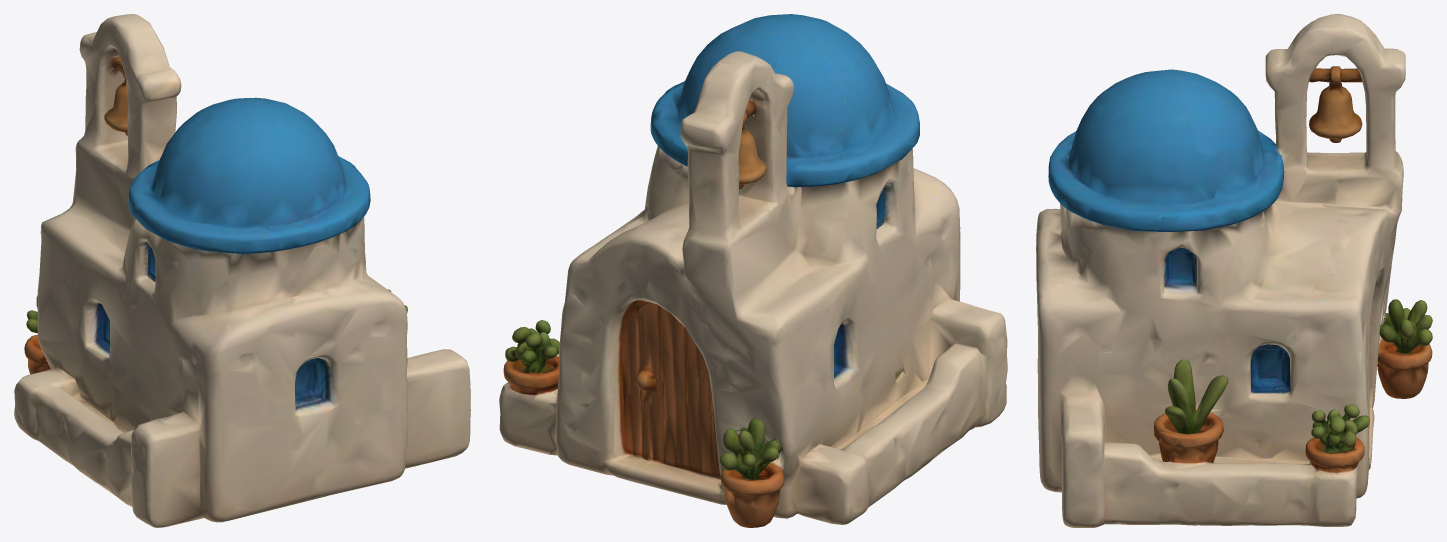
File: chapel.glb
The picture shows the model from 3 angles, left to right: view 1: azimuth 30°, elevation 25°; view 2: azimuth 150°, elevation 25°; view 3: azimuth 270°, elevation 25°; orthographic projection. The views are drawn at different scales.
Parts seen in each view (by area): view 1: tripo_node_58b60a0d-0fba-4e51-875d-85e283824e66; view 2: tripo_node_58b60a0d-0fba-4e51-875d-85e283824e66; view 3: tripo_node_58b60a0d-0fba-4e51-875d-85e283824e66.
Boxes of the visible parts, <box> form: tripo_node_58b60a0d-0fba-4e51-875d-85e283824e66: <box>14,14,470,527</box>; tripo_node_58b60a0d-0fba-4e51-875d-85e283824e66: <box>499,14,1007,527</box>; tripo_node_58b60a0d-0fba-4e51-875d-85e283824e66: <box>1036,14,1432,527</box>.
Size of the model in its own units: 0.8696 by 0.9996 by 0.8837.
Materials: 1 (1 with a texture image).
